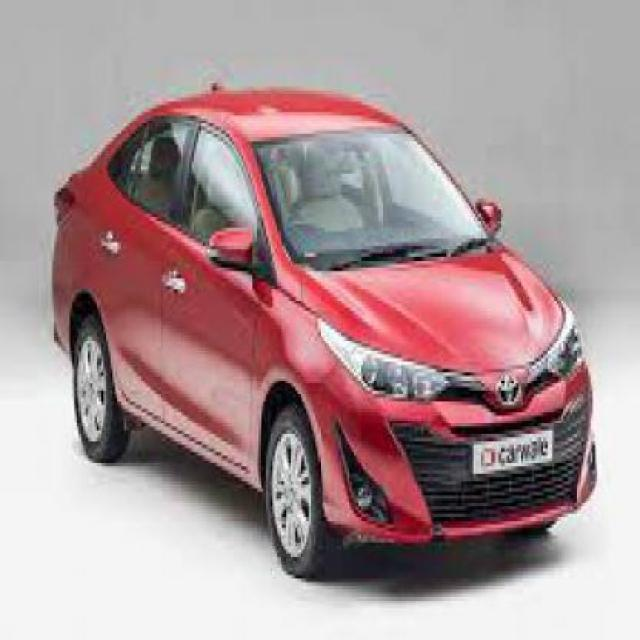vehicle: (40, 67, 604, 586)
